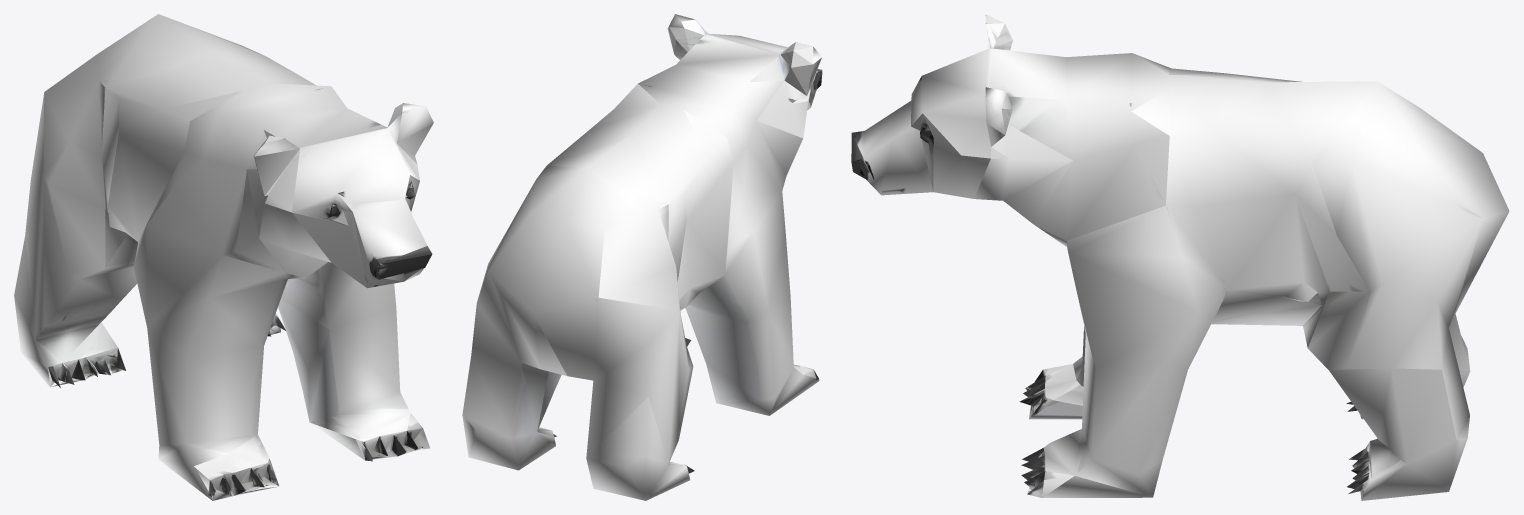
Rendered from osopolar.fbx.
The picture shows the model from 3 angles, left to right: view 1: azimuth 30°, elevation 25°; view 2: azimuth 150°, elevation 25°; view 3: azimuth 270°, elevation 25°; orthographic projection. The views are drawn at different scales.
Parts seen in each view (by area): view 1: temp; view 2: temp; view 3: temp.
Boxes of the visible parts, left/top/right/bottom form: temp: left=14, top=14, right=433, bottom=500; temp: left=462, top=14, right=822, bottom=500; temp: left=851, top=14, right=1509, bottom=500.
Size of the model in its own units: 85.21 by 130 by 200.
Materials: 1 (1 with a texture image).
